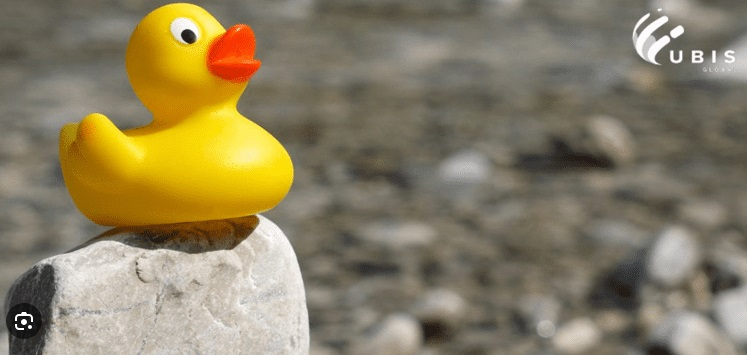duck_regular: (55, 1, 297, 231)
